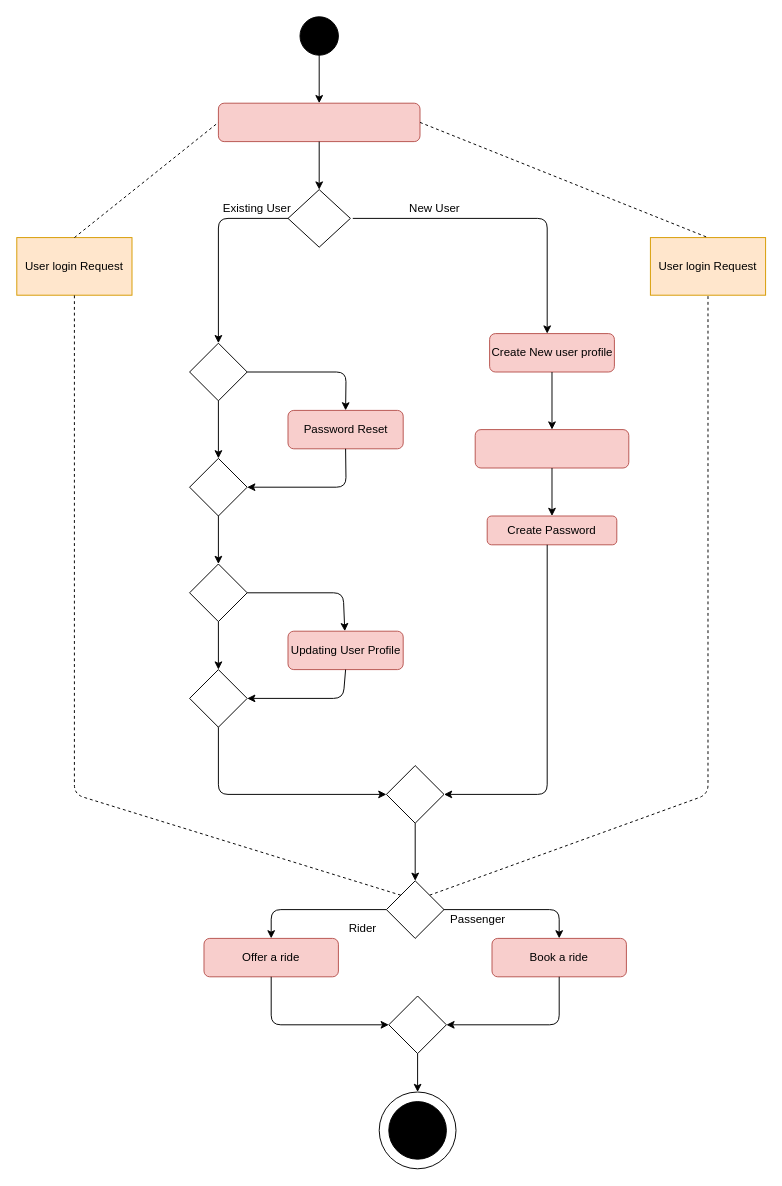
The diagram is 782 pixels wide and 1186 high, and some of its shapes have lost their labels. Each missing label, with the centre of its shape:
Get User Information: point 318,122
Verify Email Address: point 551,448
